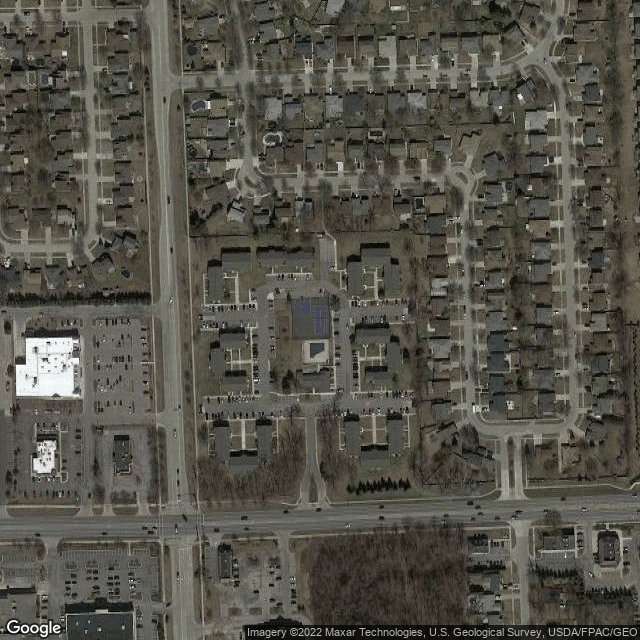Court: (311, 305, 327, 334)
